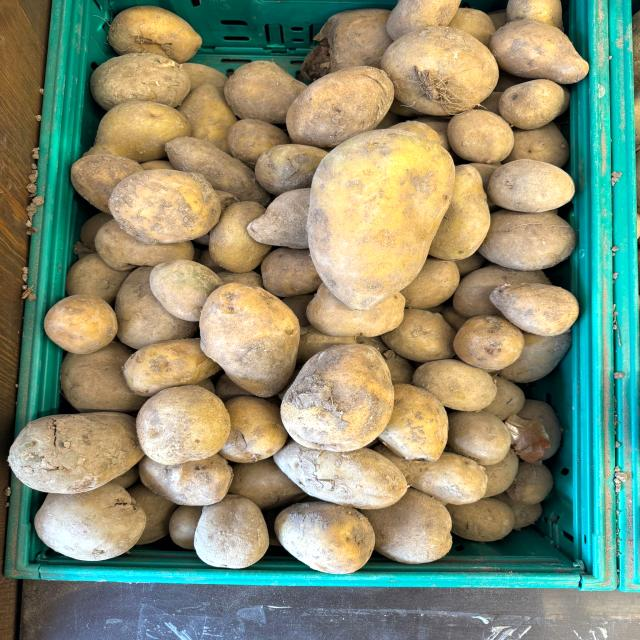potato: (301, 110, 468, 310), (271, 334, 411, 464), (110, 160, 226, 250), (129, 378, 239, 470)
